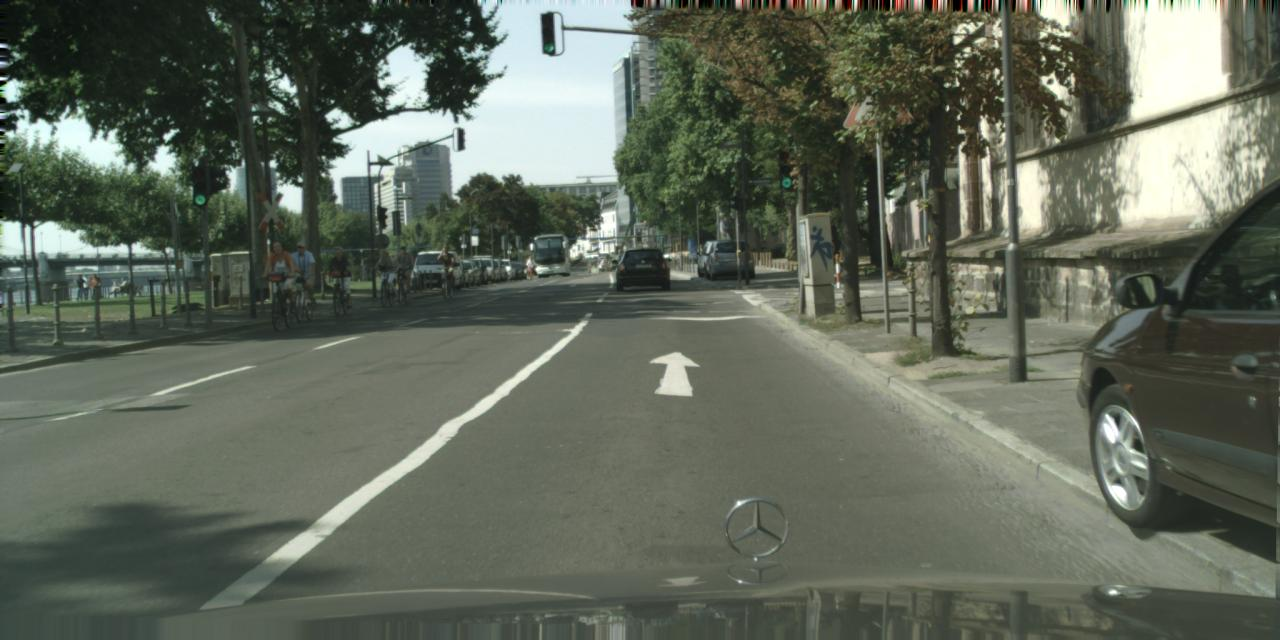ped: (268, 242, 294, 306), (290, 242, 314, 300), (328, 246, 350, 301), (393, 245, 414, 296), (74, 274, 102, 301), (378, 252, 395, 294), (438, 246, 455, 288)
